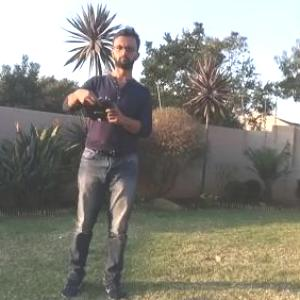follow: (54, 18, 158, 299)
